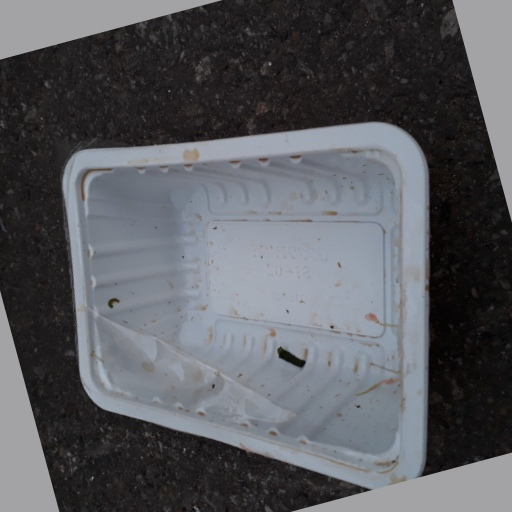Plastic_4: (59, 119, 425, 490)
